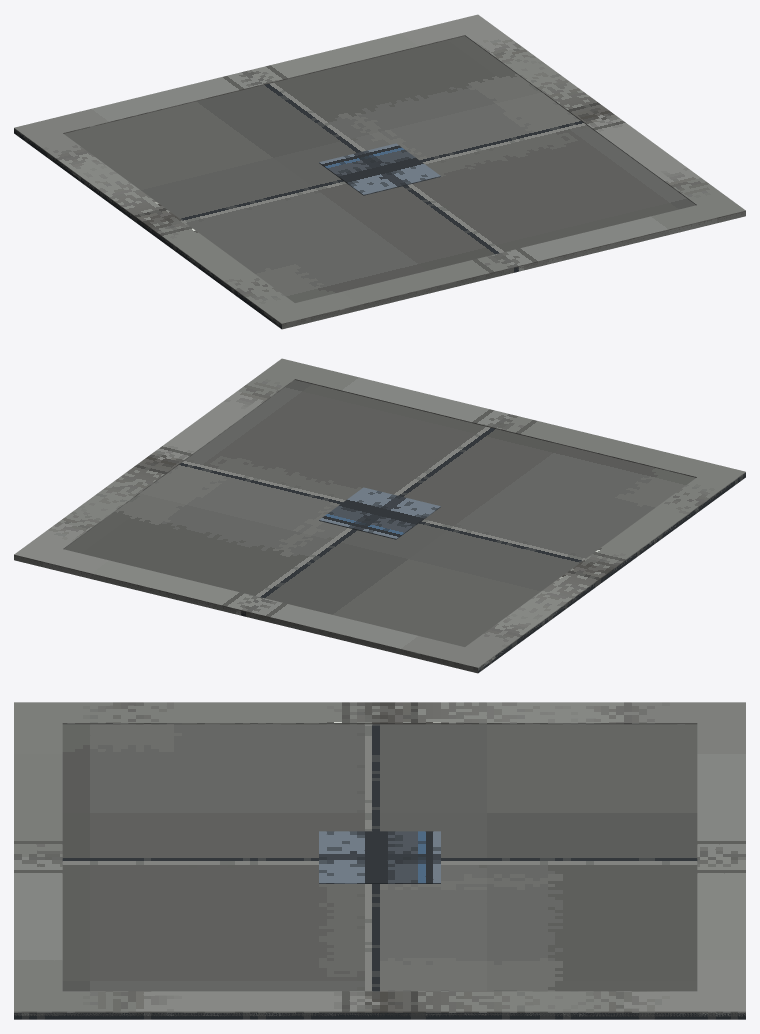
The model's file is job_post_plate.glb.
The picture shows the model from 3 angles, top to bottom: view 1: azimuth 30°, elevation 25°; view 2: azimuth 150°, elevation 25°; view 3: azimuth 270°, elevation 25°; orthographic projection. The views are drawn at different scales.
Parts seen in each view (by area): view 1: post_field, post_edge_y-1, post_edge_x-1, post_edge_y1, post_edge_x1, post_centre; view 2: post_field, post_edge_y1, post_edge_x-1, post_edge_y-1, post_edge_x1, post_centre; view 3: post_field, post_edge_x1, post_edge_x-1, post_edge_y-1, post_edge_y1, post_centre.
Part boxes in pixels (x1,y1,x2,y2): post_field: (14,36,745,329); post_edge_y-1: (264,197,745,326); post_edge_x-1: (14,120,312,326); post_edge_y1: (14,15,489,143); post_edge_x1: (447,14,744,215); post_centre: (319,143,440,195); post_field: (14,380,745,673); post_edge_y1: (14,541,495,670); post_edge_x-1: (447,464,745,670); post_edge_y-1: (264,358,745,484); post_edge_x1: (14,358,311,562); post_centre: (319,487,440,539); post_field: (14,724,745,1019); post_edge_x1: (14,991,745,1016); post_edge_x-1: (14,702,745,724); post_edge_y-1: (14,702,62,1015); post_edge_y1: (697,702,745,1016); post_centre: (319,831,440,883).
Bounding box in the file's own units: 3 × 0.035 × 3.
Materials: 3 (3 with a texture image).
